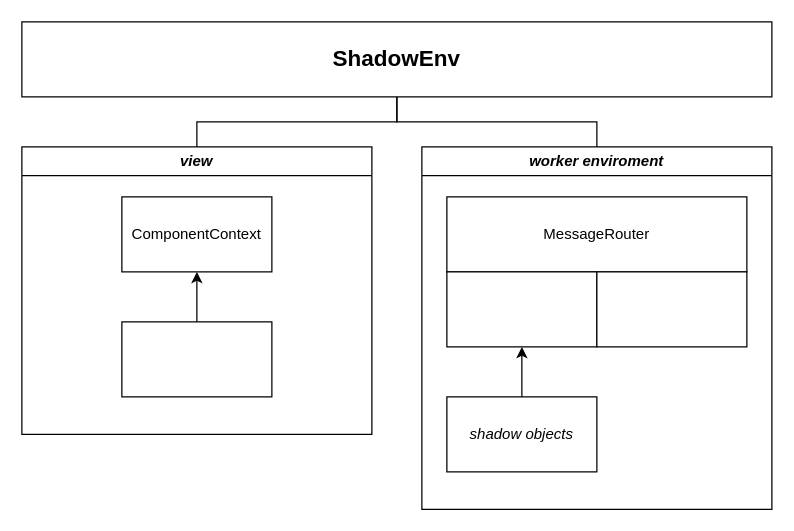
This 794x531 diagram has some shape labels left out. Here are the shapes that lost their labels. From the top down, the centre of each, then its label:
At (521,309): "Kernel".
At (671,309): "Registry".
At (196,359): "ViewComponents".
